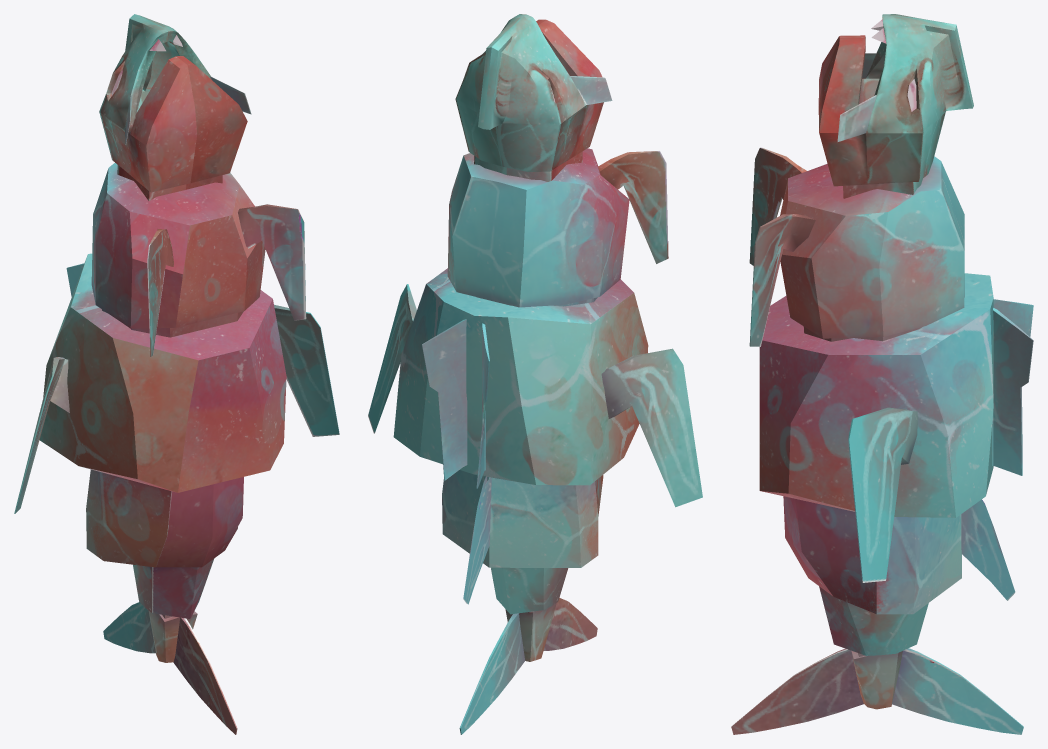
File: bulwarkbream.fbx
3 renders of one model, left to right at view 1: azimuth 30°, elevation 25°; view 2: azimuth 150°, elevation 25°; view 3: azimuth 270°, elevation 25°, orthographic. The views are drawn at different scales.
Parts seen in each view (by area): view 1: Mesh; view 2: Mesh; view 3: Mesh.
Boxes of the visible parts, x1=… form: Mesh: x1=14, y1=14, x2=339, y2=734; Mesh: x1=368, y1=14, x2=702, y2=734; Mesh: x1=731, y1=14, x2=1033, y2=734.
Size of the model in its own units: 493 by 948 by 361.
1 material, 1 textured.
